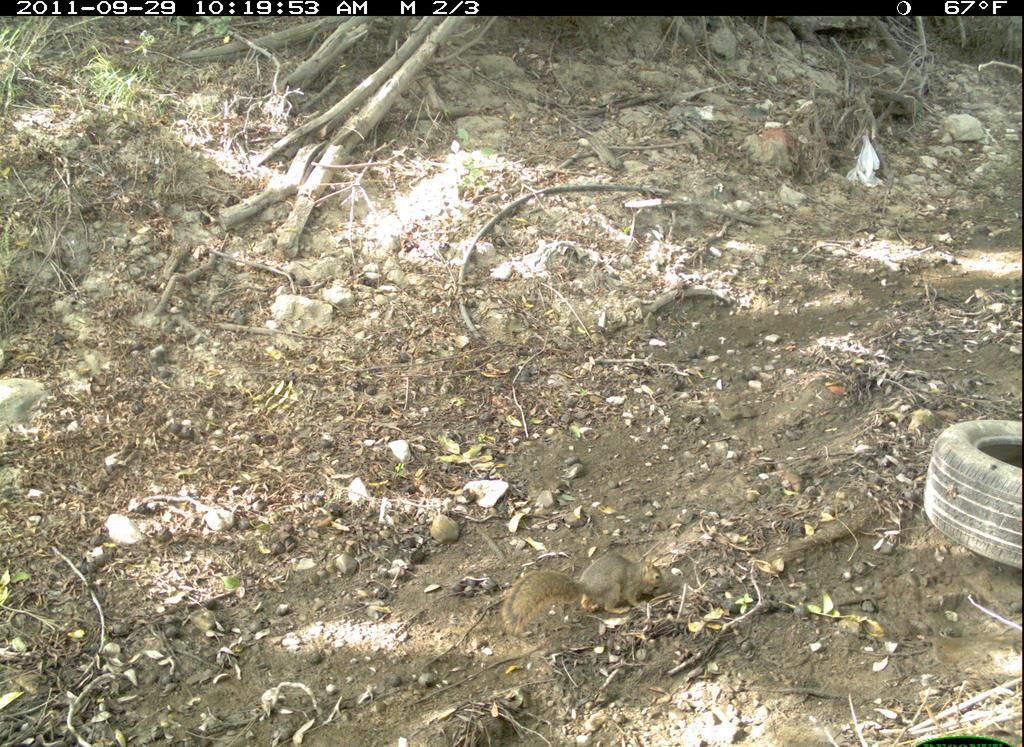squirrel: (493, 547, 668, 643)
